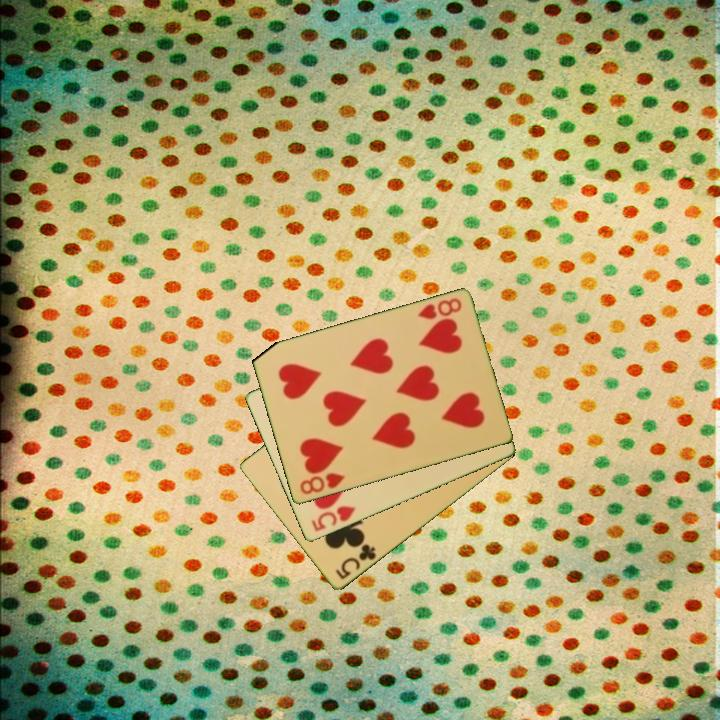5c: (332, 541, 379, 583)
5h: (308, 502, 358, 535)
8h: (296, 469, 348, 498), (414, 295, 464, 323)
